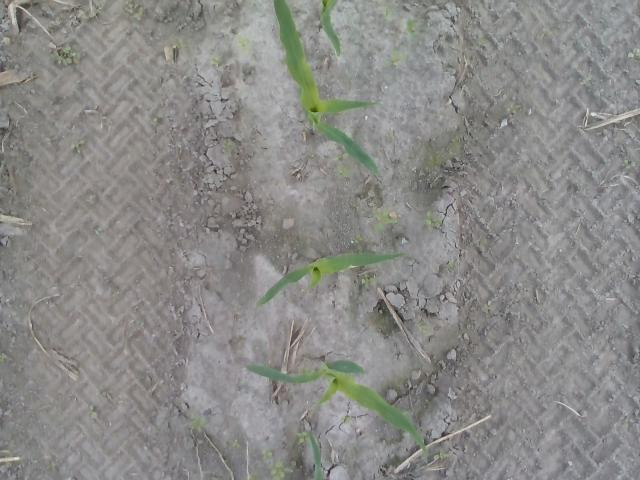Maize: (273, 0, 380, 176), (245, 361, 428, 455), (256, 251, 406, 309), (316, 0, 341, 59), (306, 429, 324, 480)
Weeds: (262, 449, 288, 480), (372, 207, 398, 232), (50, 46, 76, 66), (334, 152, 350, 178), (404, 17, 418, 42), (190, 414, 207, 433), (422, 212, 442, 228), (626, 46, 640, 60), (362, 273, 376, 287), (432, 452, 450, 461), (236, 35, 250, 46), (296, 431, 308, 443), (209, 55, 223, 65), (392, 50, 402, 64), (222, 141, 232, 152), (352, 233, 362, 244), (232, 440, 240, 450), (0, 353, 7, 362)
